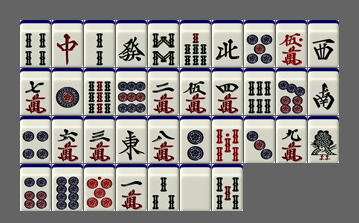0m: (276, 20, 307, 67)
0p: (84, 164, 115, 211)
0s: (212, 116, 243, 163)
1m: (116, 164, 147, 211)
1p: (52, 68, 83, 115)
1s: (308, 116, 339, 163)
1z: (116, 116, 147, 163)
2m: (148, 68, 179, 115)
2p: (180, 116, 211, 163)
2s: (84, 20, 115, 67)
2z: (308, 68, 339, 115)
3m: (84, 116, 115, 163)
3p: (244, 116, 275, 163)
3s: (148, 164, 179, 211)
3z: (308, 20, 339, 67)
4m: (212, 68, 243, 115)
4p: (20, 116, 51, 163)
4s: (20, 20, 51, 67)
4z: (212, 20, 243, 67)
5m: (180, 68, 211, 115)
5p: (244, 20, 275, 67)
5s: (212, 164, 243, 211)
5z: (180, 164, 211, 211)
6m: (52, 116, 83, 163)
6p: (20, 164, 51, 211)
6s: (244, 68, 275, 115)
6z: (116, 20, 147, 67)
7m: (20, 68, 51, 115)
7p: (276, 68, 307, 115)
7s: (180, 20, 211, 67)
7z: (52, 20, 83, 67)
8m: (148, 116, 179, 163)
8p: (52, 164, 83, 211)
8s: (148, 20, 179, 67)
9m: (276, 116, 307, 163)
9p: (116, 68, 147, 115)
9s: (84, 68, 115, 115)
